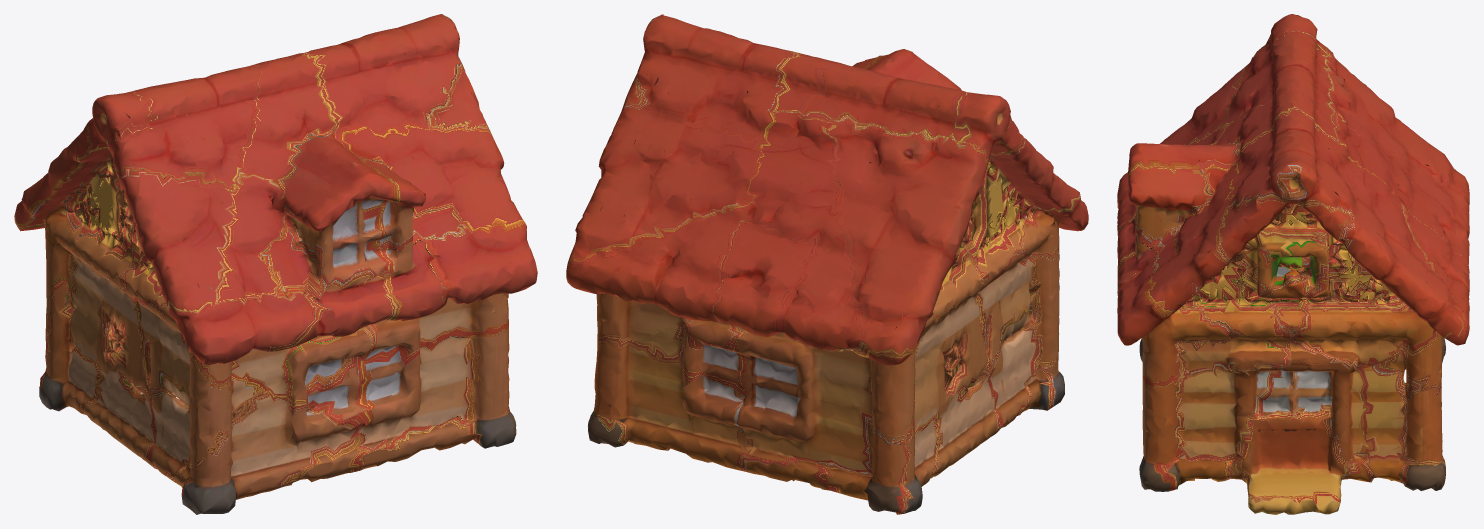
Rendered from منزل_ريفي.glb.
The picture shows the model from 3 angles, left to right: view 1: azimuth 30°, elevation 25°; view 2: azimuth 150°, elevation 25°; view 3: azimuth 270°, elevation 25°; orthographic projection. The views are drawn at different scales.
Visible parts, largest first — view 1: tripo_node_ac9e8f64-127b-498d-a840-a67f385c2a08; view 2: tripo_node_ac9e8f64-127b-498d-a840-a67f385c2a08; view 3: tripo_node_ac9e8f64-127b-498d-a840-a67f385c2a08.
Part boxes in pixels (x1,y1,x2,y2): tripo_node_ac9e8f64-127b-498d-a840-a67f385c2a08: [14, 14, 537, 514]; tripo_node_ac9e8f64-127b-498d-a840-a67f385c2a08: [566, 14, 1088, 514]; tripo_node_ac9e8f64-127b-498d-a840-a67f385c2a08: [1117, 14, 1469, 514].
Size of the model in its own units: 0.9991 by 0.8889 by 0.8536.
1 material, 1 textured.
